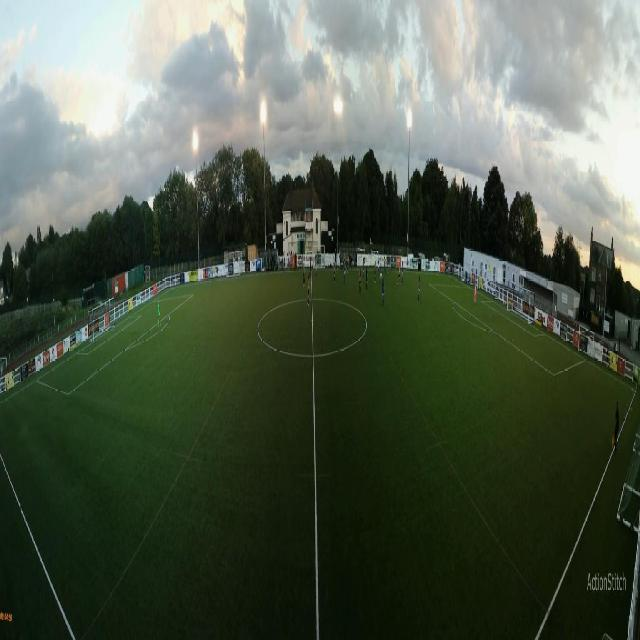player: (307, 275, 311, 305), (158, 300, 162, 327), (358, 267, 362, 293), (397, 263, 401, 287), (346, 253, 350, 275), (382, 278, 385, 306), (374, 258, 377, 285), (333, 259, 336, 285), (315, 253, 318, 279), (418, 276, 421, 302), (343, 259, 346, 283), (365, 267, 368, 291), (362, 261, 365, 282), (380, 264, 383, 284), (352, 254, 355, 273), (384, 257, 387, 275), (377, 258, 380, 275), (303, 263, 305, 288), (402, 262, 404, 284), (474, 285, 476, 306), (309, 257, 311, 277), (388, 256, 390, 275)
